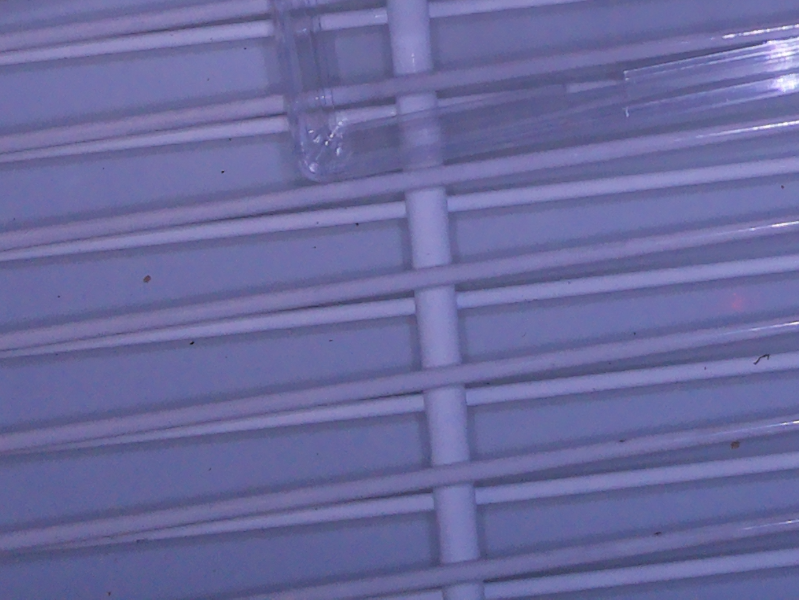plate: (273, 1, 799, 186)
